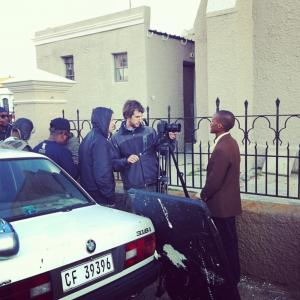Vehicle-registration-plate: (62, 264, 122, 289)
